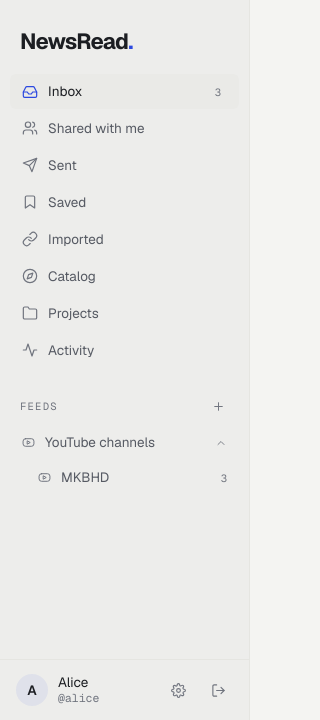
Test: <Sidebar> YouTube channels group › keeps the desktop rail and the mobile drawer in step
Click the button titled "Collapse YouTube channels" at (124, 443), box [10,426,239,460]
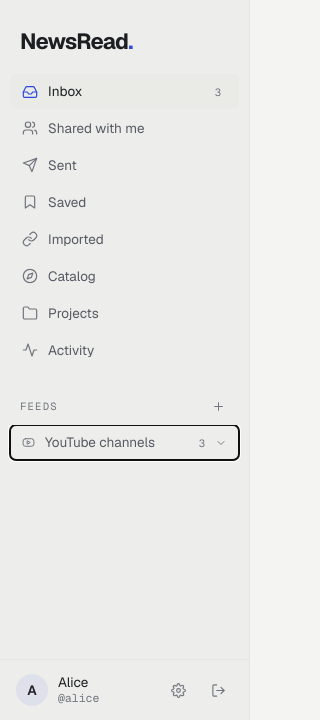
Expected: the link "MKBHD" is gone
